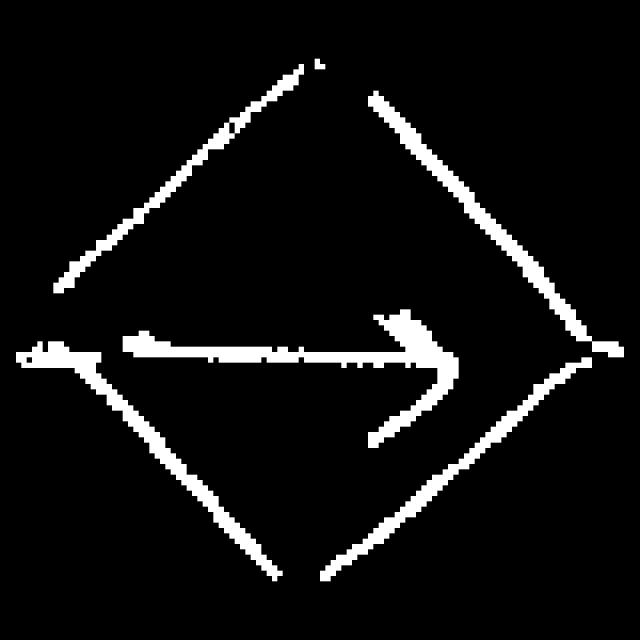dependant_current: (52, 48, 599, 588)
